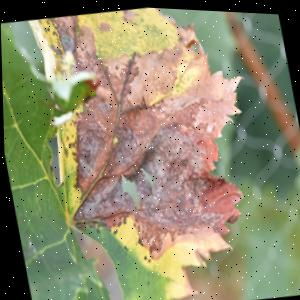Folha: (23, 1, 283, 300)
Fungo: (42, 30, 273, 271), (50, 45, 159, 198), (56, 10, 99, 59), (28, 15, 64, 62), (50, 46, 77, 79), (120, 5, 138, 20), (95, 17, 109, 30)
